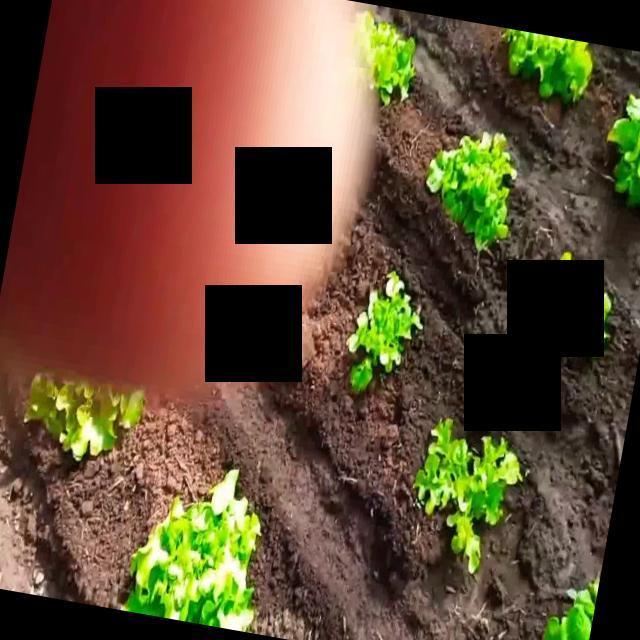Lettuce: (124, 465, 265, 633), (414, 413, 524, 562), (16, 369, 142, 462), (426, 134, 518, 258), (347, 268, 421, 396), (500, 28, 598, 107), (368, 12, 422, 101), (606, 97, 640, 213), (542, 582, 600, 640)
